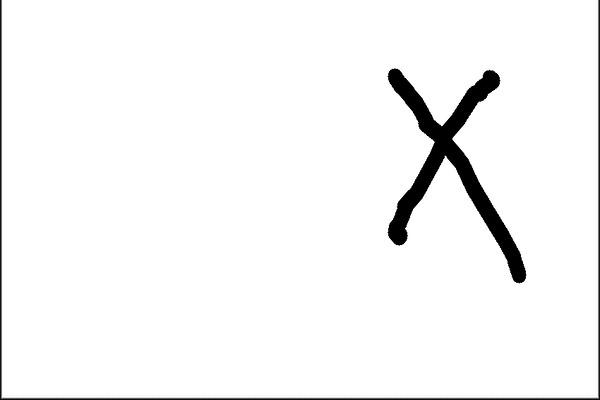X: (344, 33, 558, 316)
